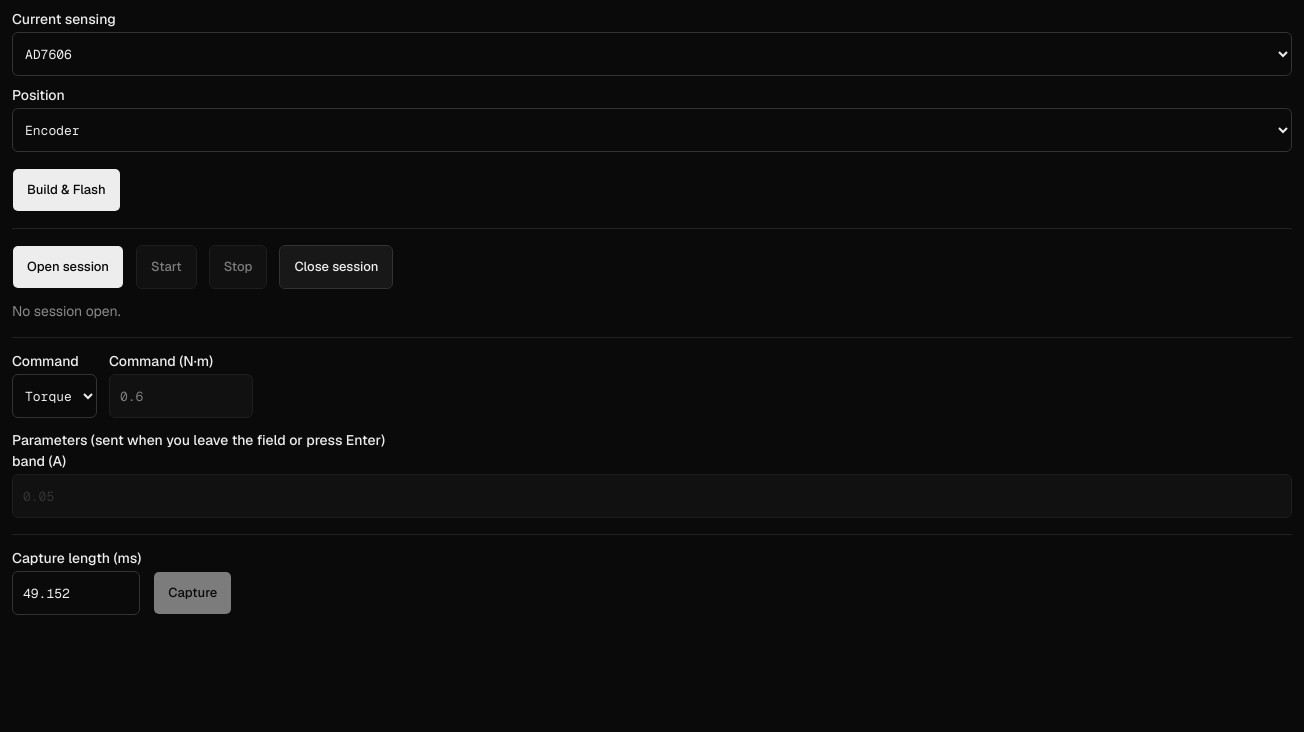
Test: HilPanel › shows the server text of a refused open and the loopback text of a 403
Click the button "Open session" at (68, 267), box [12, 245, 124, 289]
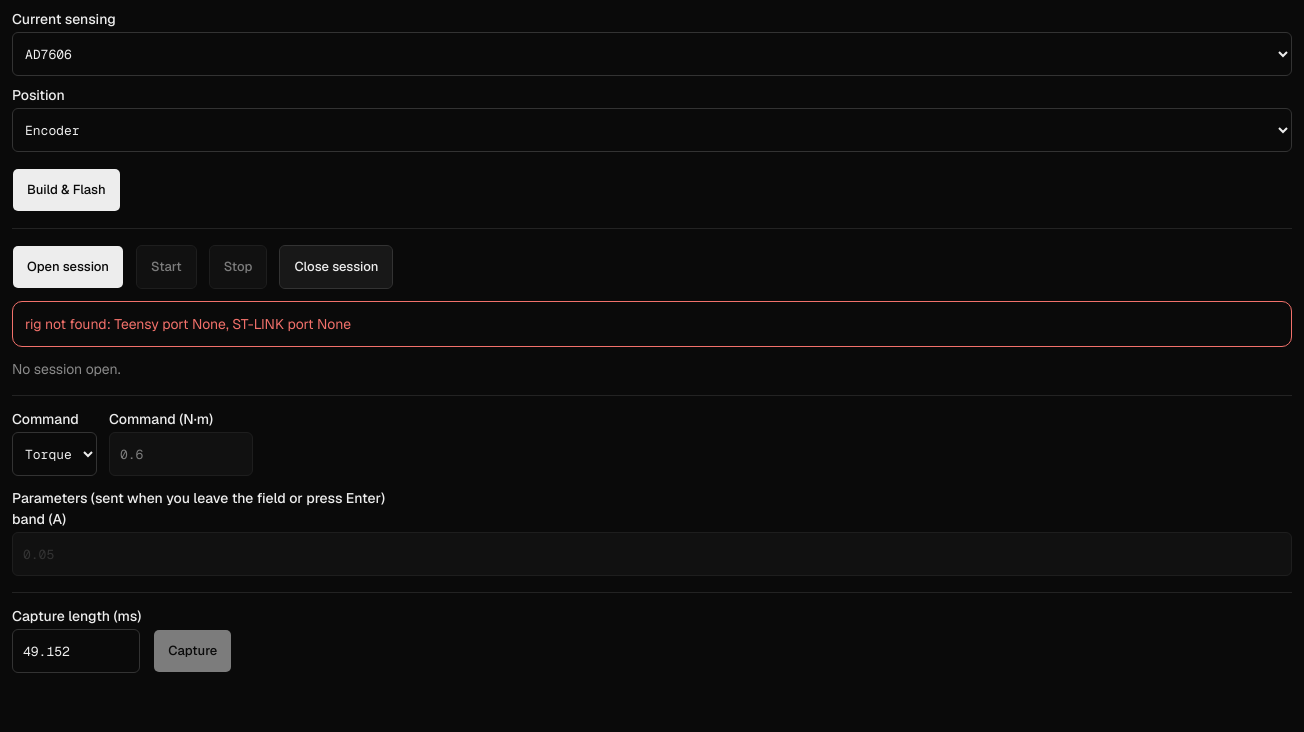
Now the text "rig not found" is shown, box [25, 315, 351, 333]
Click the button "Open session" at (68, 267), box [12, 245, 124, 289]
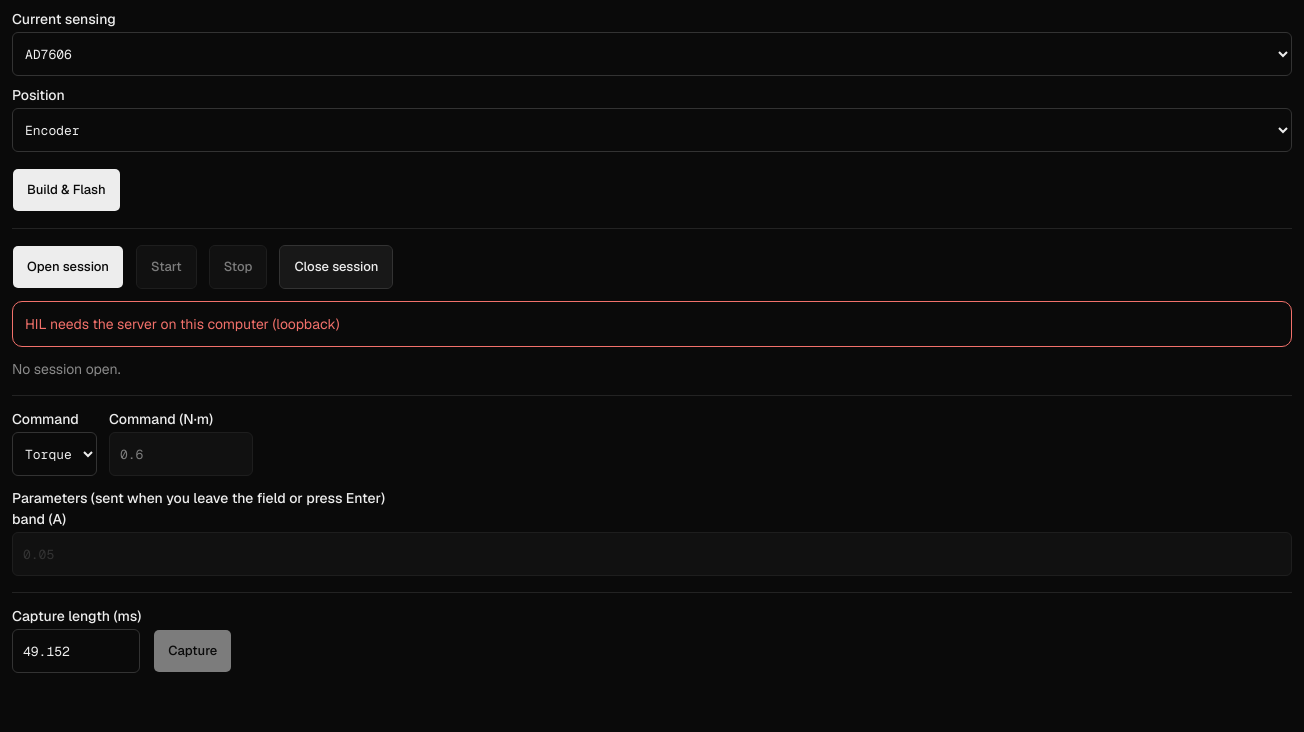
Now the text "HIL needs the server on this computer (loopback)" is shown, box [12, 301, 1292, 347]
